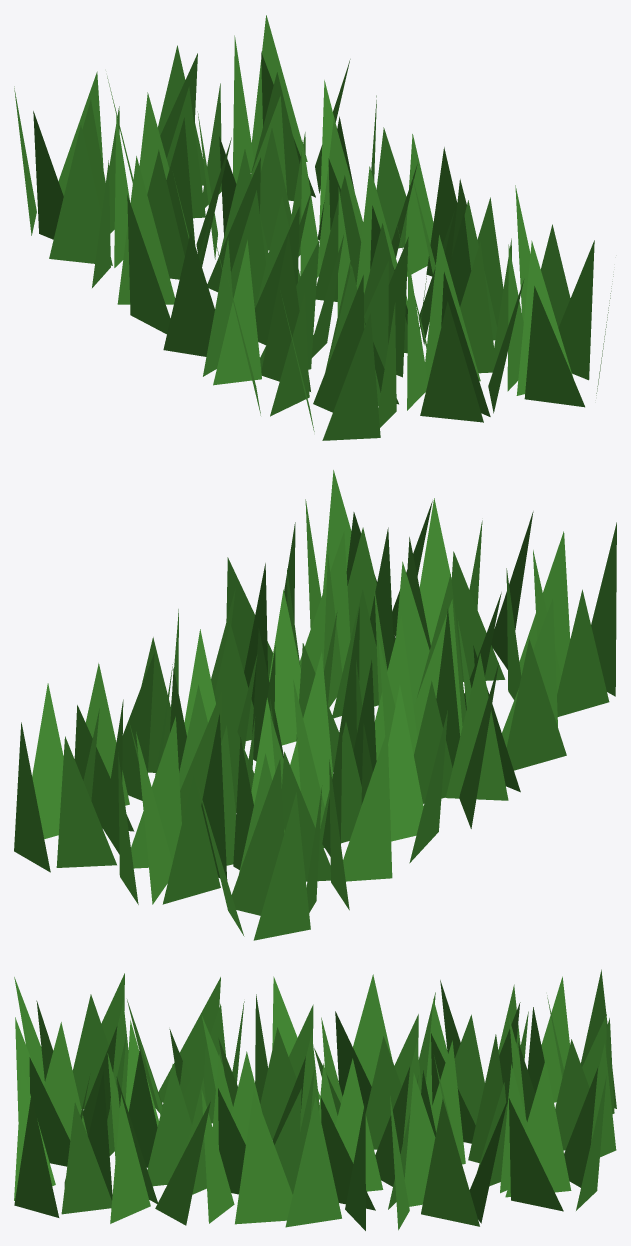
File: grass.glb
3 renders of one model, top to bottom at view 1: azimuth 30°, elevation 25°; view 2: azimuth 150°, elevation 25°; view 3: azimuth 270°, elevation 25°, orthographic. The views are drawn at different scales.
Visible parts, largest first — view 1: Grass; view 2: Grass; view 3: Grass.
Boxes of the visible parts, bbox=[...] form: Grass: bbox=[14, 15, 613, 440]; Grass: bbox=[14, 470, 616, 940]; Grass: bbox=[14, 969, 616, 1230].
Size of the model in its own units: 1.06 by 0.5123 by 1.98.
